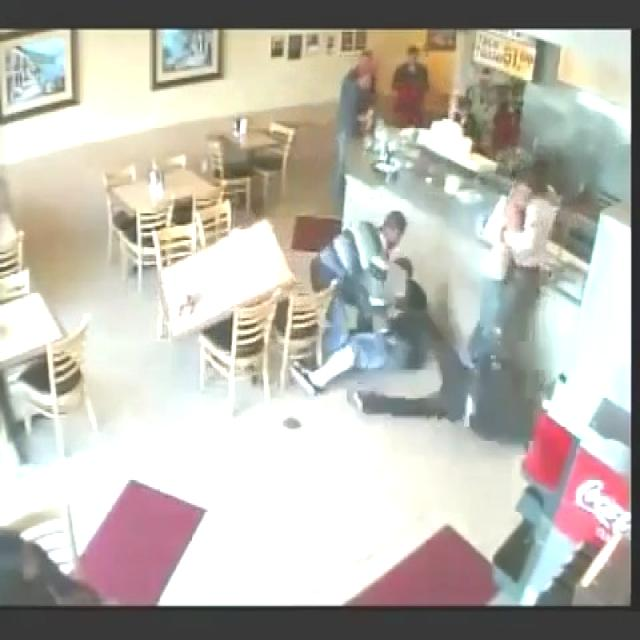fight: (458, 123, 586, 439), (295, 188, 433, 409)
